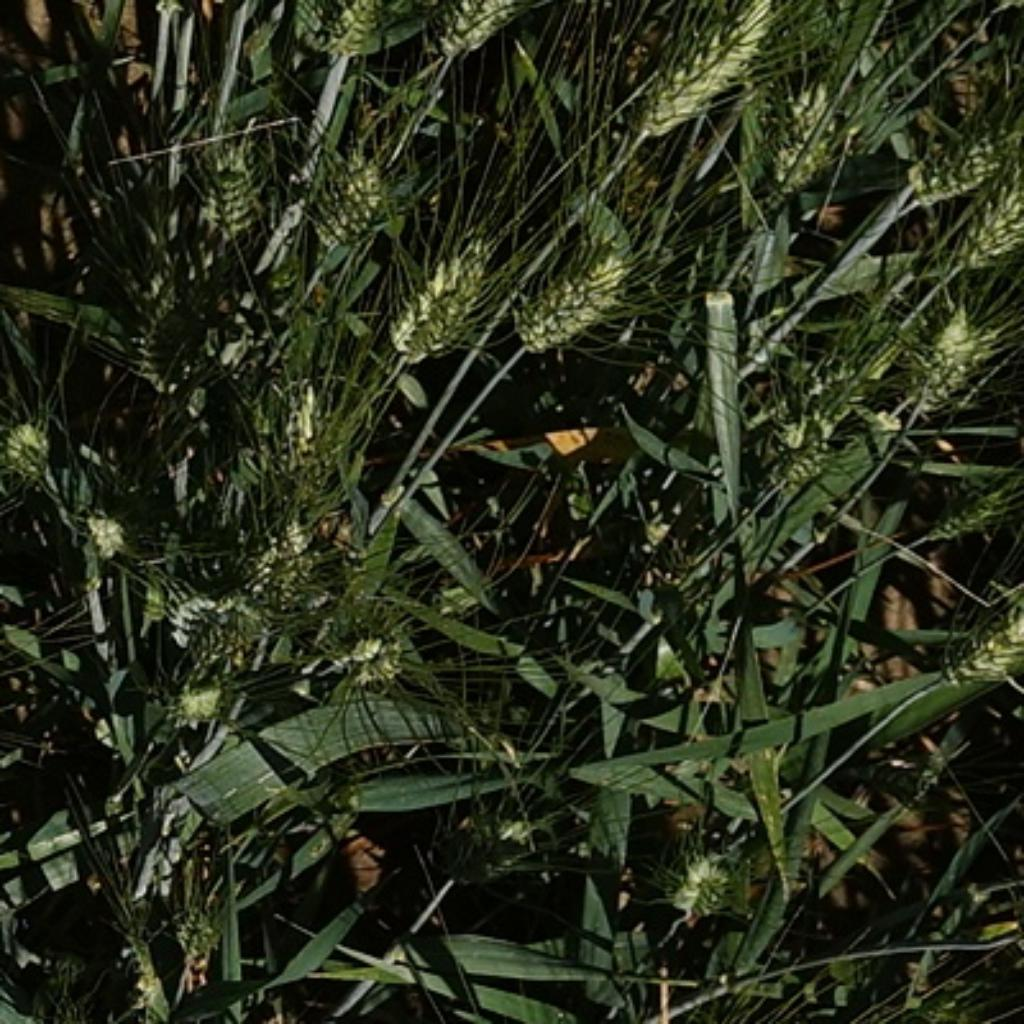0-0: (723, 316, 871, 495), (633, 9, 780, 141), (901, 71, 1018, 204), (501, 248, 632, 363), (246, 371, 364, 494), (294, 130, 409, 248), (890, 289, 1000, 412), (166, 130, 271, 258), (745, 68, 844, 203), (913, 570, 1021, 688), (901, 465, 1013, 565), (387, 256, 494, 360), (652, 834, 762, 931), (117, 277, 197, 407), (424, 2, 555, 74), (166, 573, 273, 660), (931, 171, 1024, 271), (436, 813, 546, 882), (100, 931, 178, 1024), (335, 616, 427, 683), (299, 2, 391, 69), (235, 517, 320, 588), (169, 906, 229, 987), (0, 404, 58, 481), (71, 494, 133, 565), (161, 663, 238, 719)
